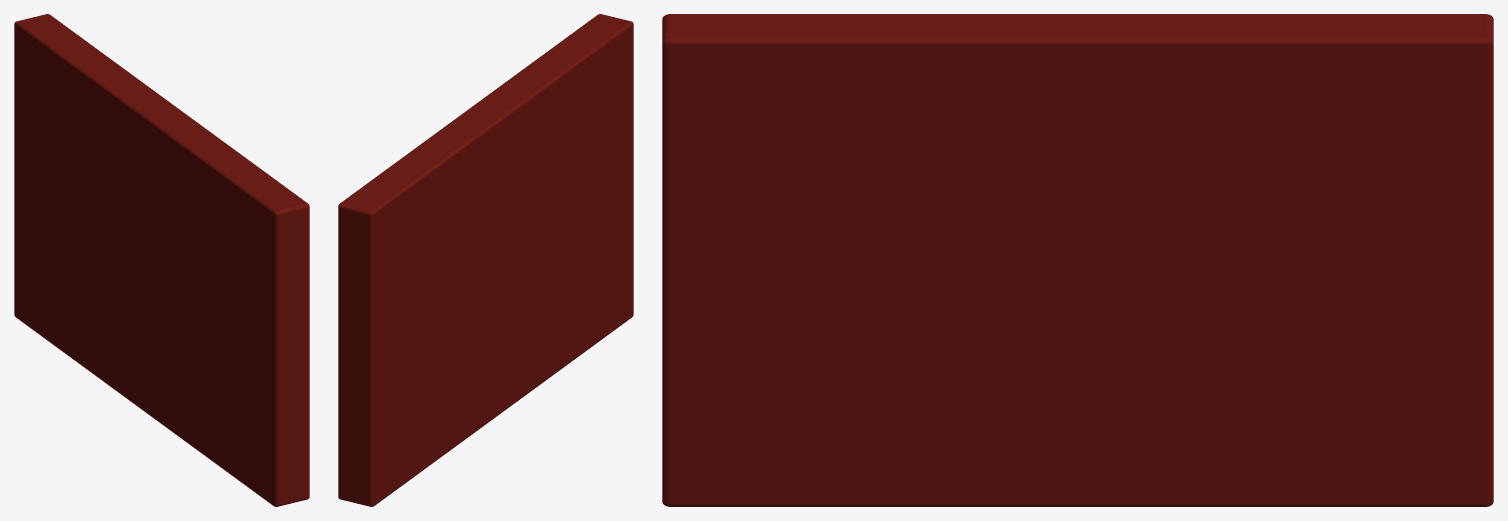
File: mur_scene.fbx
3 views of the same model, side by side, from view 1: azimuth 30°, elevation 25°; view 2: azimuth 150°, elevation 25°; view 3: azimuth 270°, elevation 25° (orthographic). The views are drawn at different scales.
Visible parts, largest first — view 1: mur_scene; view 2: mur_scene; view 3: mur_scene.
Boxes of the visible parts, <box> form: mur_scene: <box>14,14,309,506</box>; mur_scene: <box>338,14,633,506</box>; mur_scene: <box>662,14,1493,506</box>.
Size of the model in its own units: 177 by 1396 by 2244.
